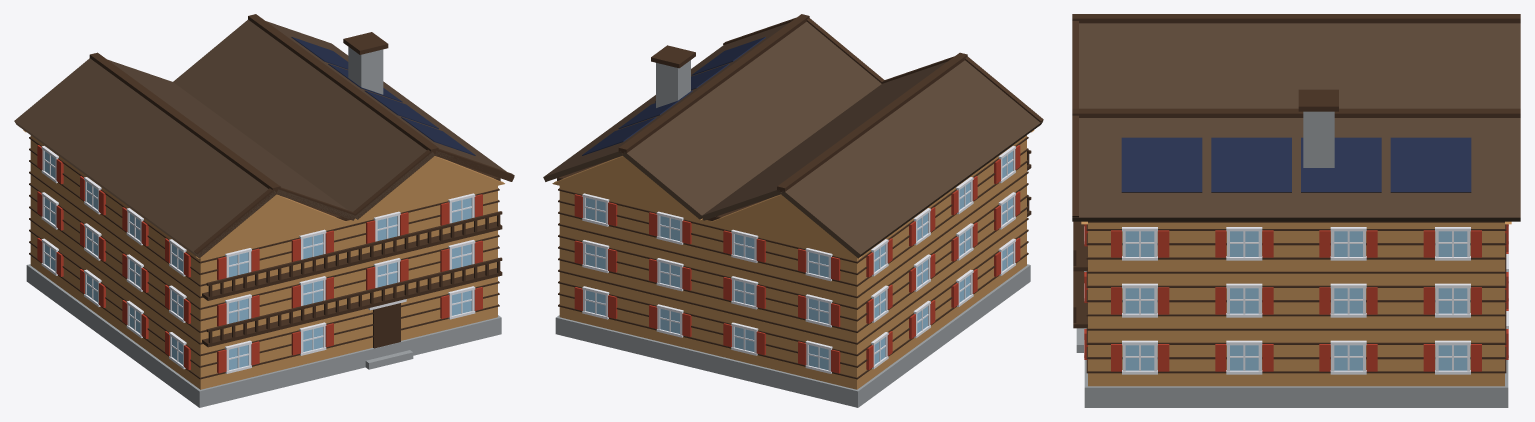
File: house-2x2-3f-chalet-a-solar.glb
3 views of the same model, side by side, from view 1: azimuth 30°, elevation 25°; view 2: azimuth 150°, elevation 25°; view 3: azimuth 270°, elevation 25° (orthographic). The views are drawn at different scales.
Parts seen in each view (by area): view 1: house-2x2-3f-chalet-a-solar; view 2: house-2x2-3f-chalet-a-solar; view 3: house-2x2-3f-chalet-a-solar.
Part boxes in pixels (x1,y1,x2,y2): house-2x2-3f-chalet-a-solar: [14, 14, 514, 407]; house-2x2-3f-chalet-a-solar: [543, 14, 1043, 407]; house-2x2-3f-chalet-a-solar: [1072, 14, 1520, 407].
Size of the model in its own units: 2.01 by 1.4 by 2.
Materials: 1 (1 with a texture image).
